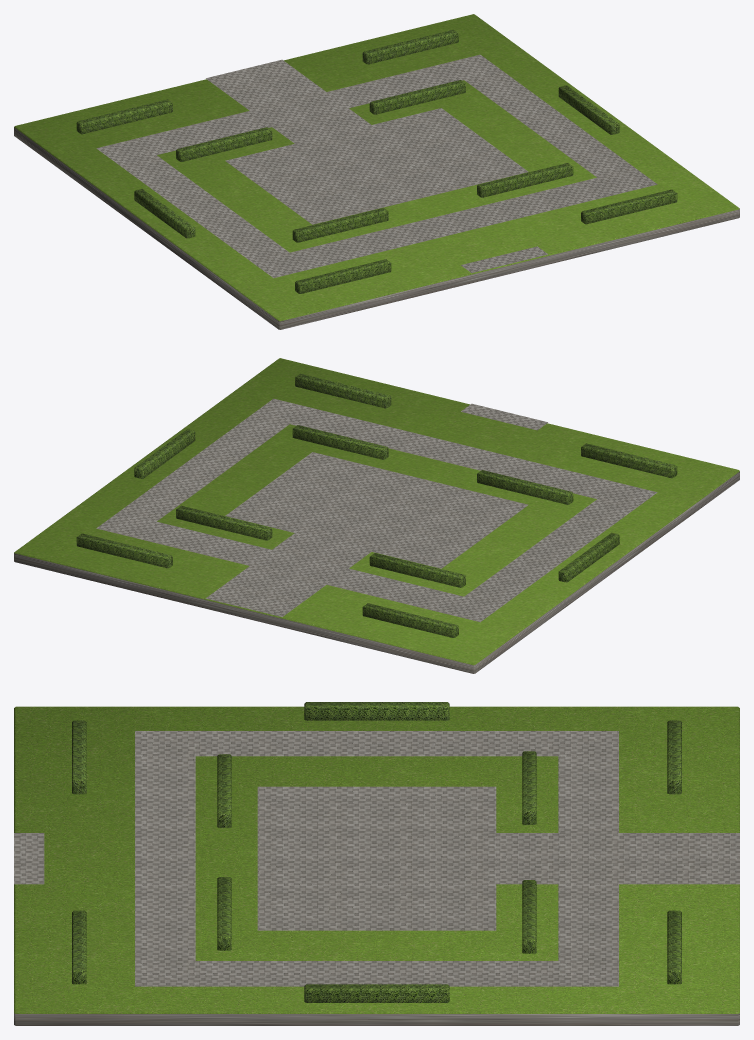
Rendered from building_ground.glb.
3 views of the same model, one above another, from view 1: azimuth 30°, elevation 25°; view 2: azimuth 150°, elevation 25°; view 3: azimuth 270°, elevation 25° (orthographic). The views are drawn at different scales.
Parts seen in each view (by area): view 1: Plane, Plane.003, Cube.002; view 2: Plane, Plane.003, Cube.002; view 3: Plane, Plane.003, Cube.002.
Boxes of the visible parts, x1=… form: Plane: x1=14, y1=14, x2=739, y2=329; Plane.003: x1=96, y1=54, x2=657, y2=278; Cube.002: x1=76, y1=29, x2=677, y2=293; Plane: x1=14, y1=358, x2=739, y2=673; Plane.003: x1=96, y1=398, x2=657, y2=622; Cube.002: x1=76, y1=373, x2=677, y2=637; Plane: x1=14, y1=706, x2=739, y2=1025; Plane.003: x1=14, y1=731, x2=739, y2=986; Cube.002: x1=72, y1=702, x2=681, y2=1002.
Bounding box in the file's own units: 100 × 4.1 × 100.
3 materials, 3 textured.
